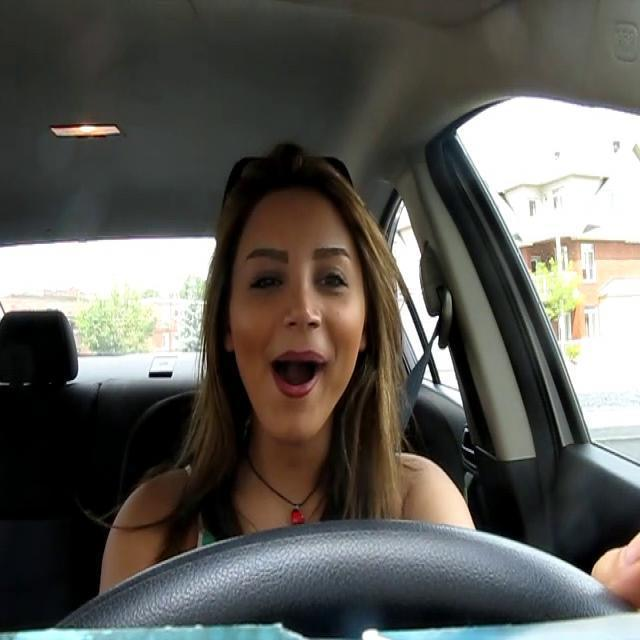open-mouth: (265, 344, 332, 402)
